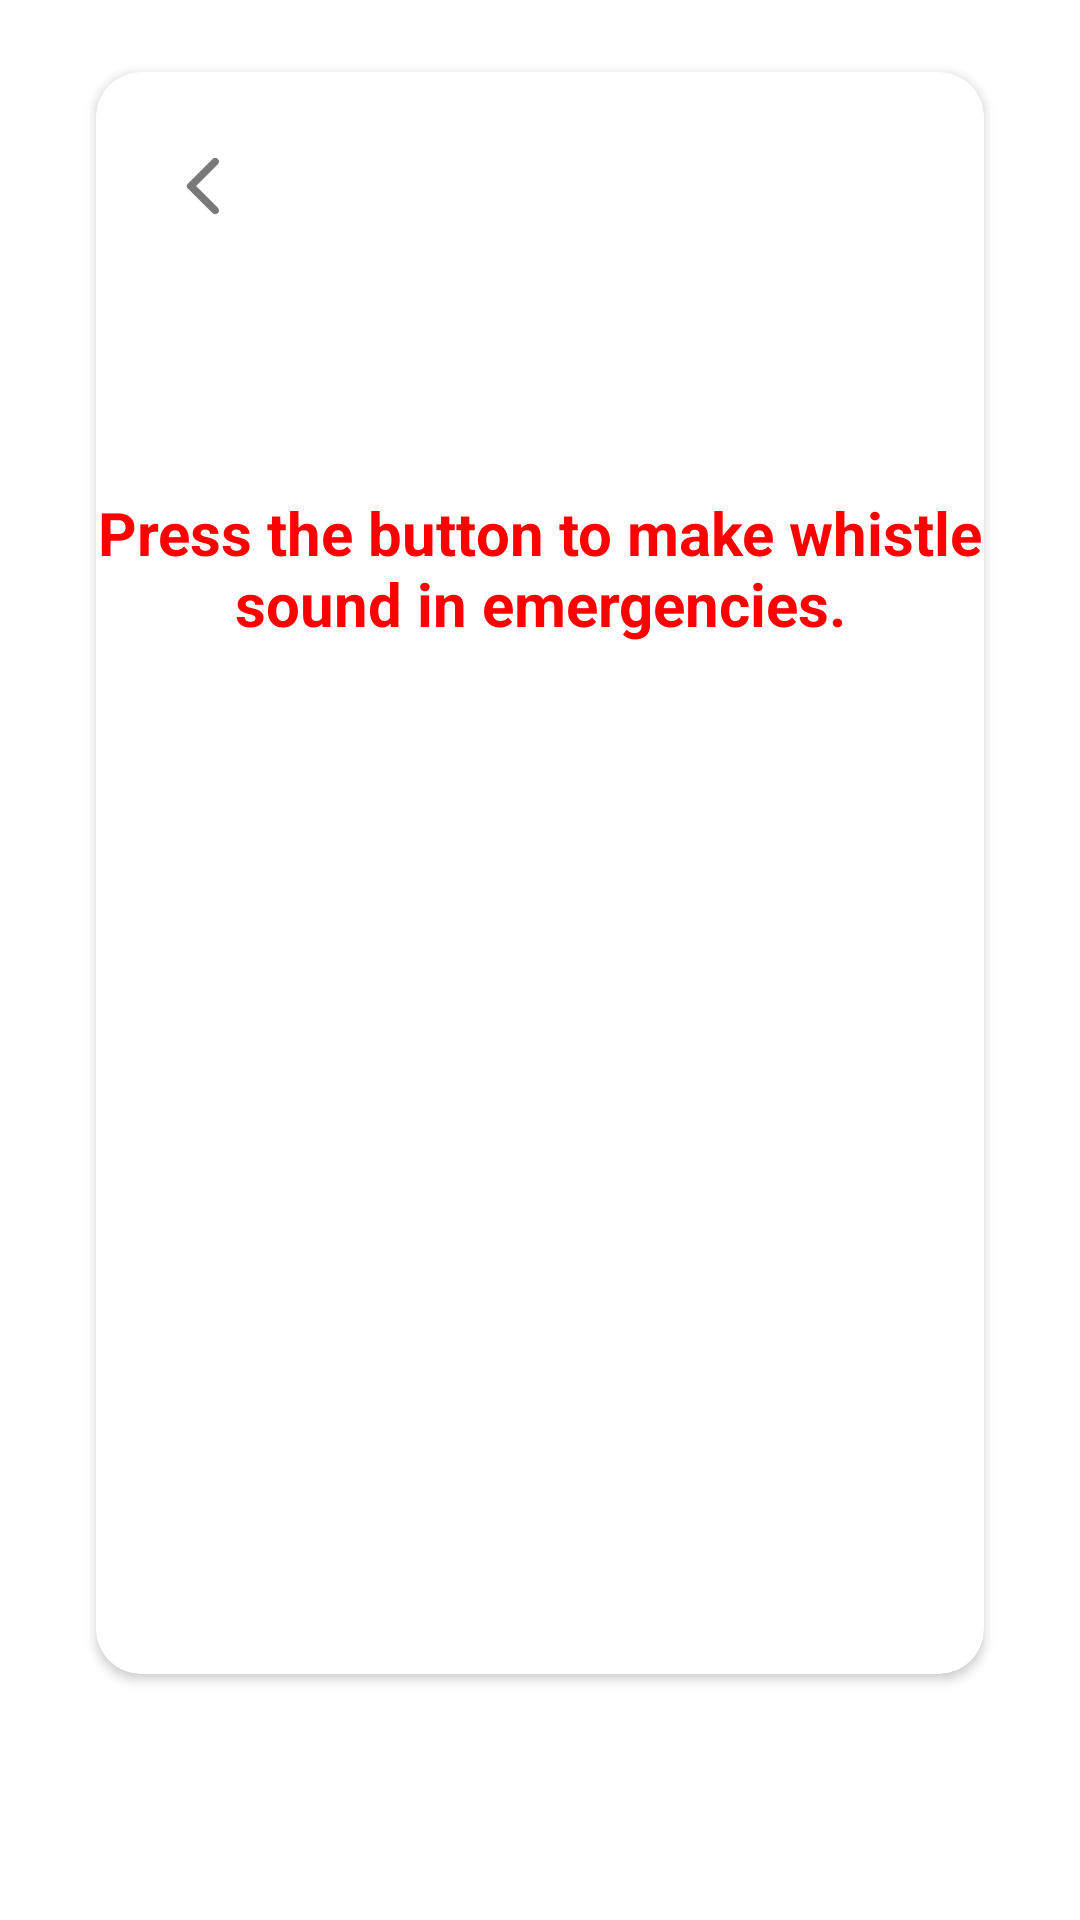

Screen size 1080×1920. Icon name, then its box in pixels as (left=x1, top=y1, right=x2, bottom=y2):
back arrow: (left=186, top=158, right=219, bottom=214)
